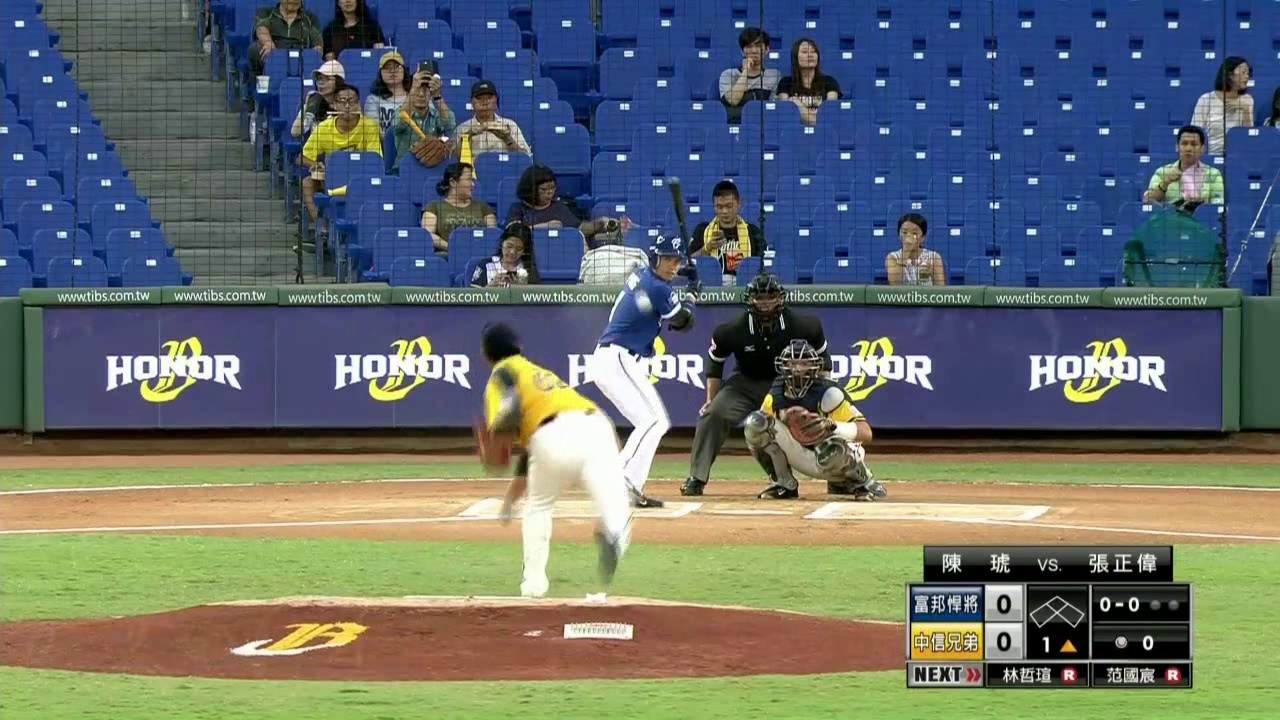ball: (638, 297, 649, 310)
base: (1029, 591, 1088, 633)
bat: (670, 179, 697, 285)
out: (1148, 595, 1183, 615)
score1: (988, 590, 1021, 620)
score2: (989, 622, 1019, 657)
session: (1030, 630, 1087, 656)
strikeball: (1098, 591, 1143, 618)
total: (1105, 630, 1161, 655)
